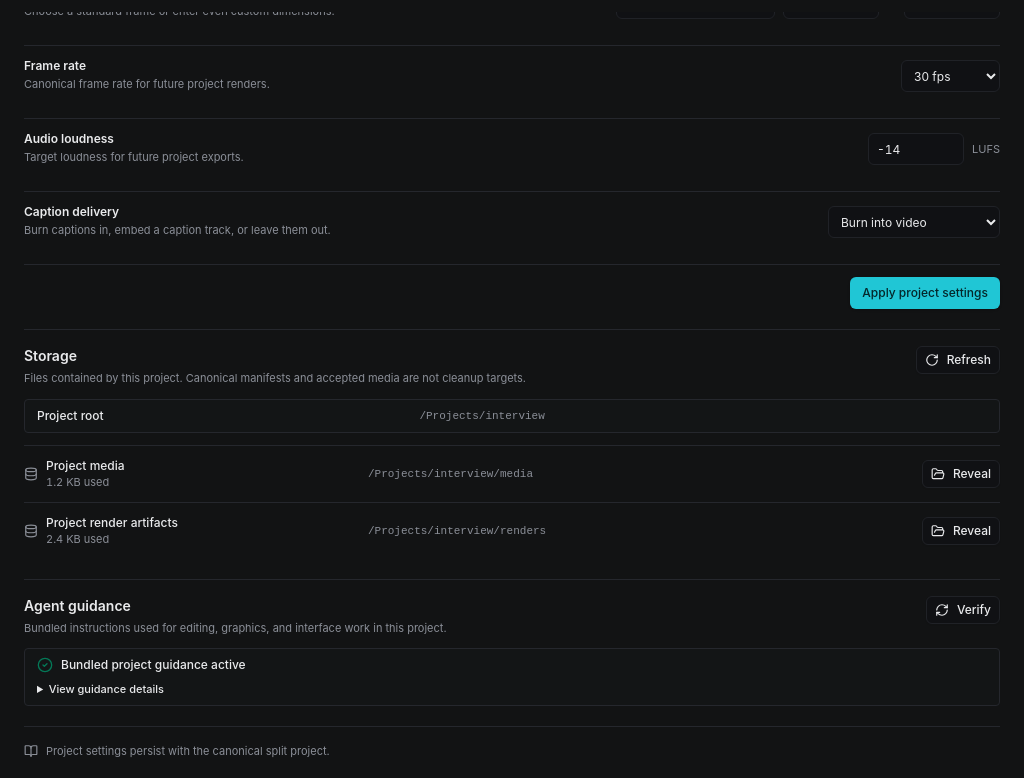
Test: ProjectSettings › collapses healthy guidance to one compact row
(page scrolled)
Expected: the text "Bundled project guidance active" is shown, [37,657,246,673]
Expected: the text "Editing pipeline" is not shown
Click the heading "View guidance details" at (106, 689), box [49,682,164,696]
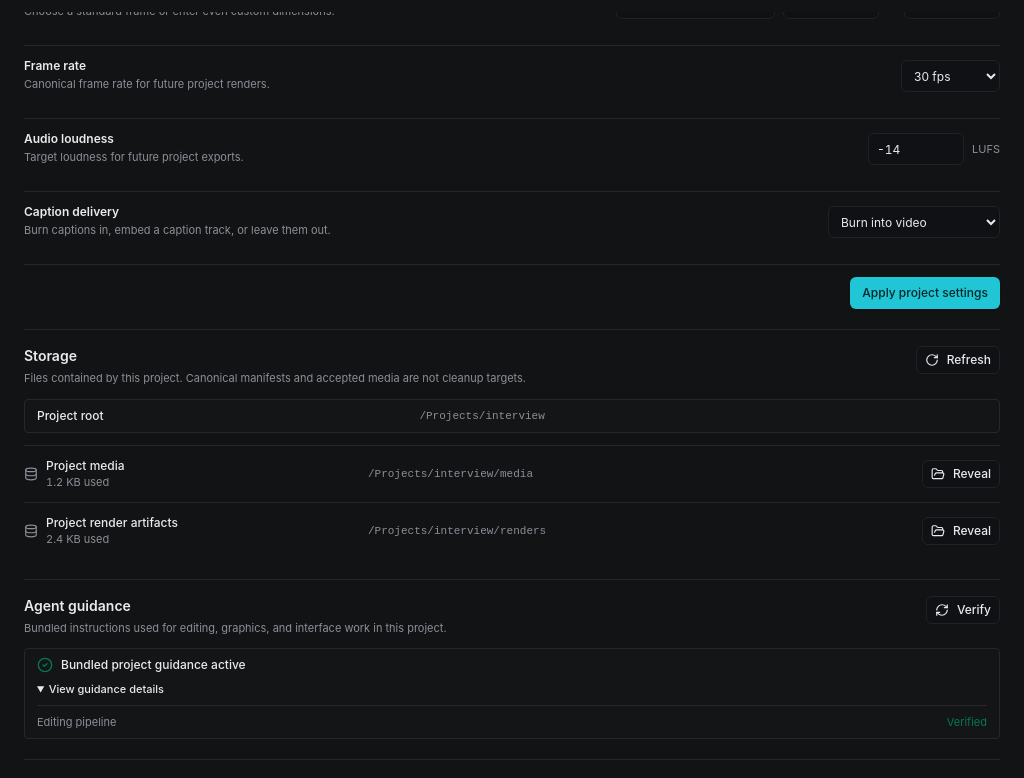
Now the text "Editing pipeline" is shown, box [37,714,116,730]
